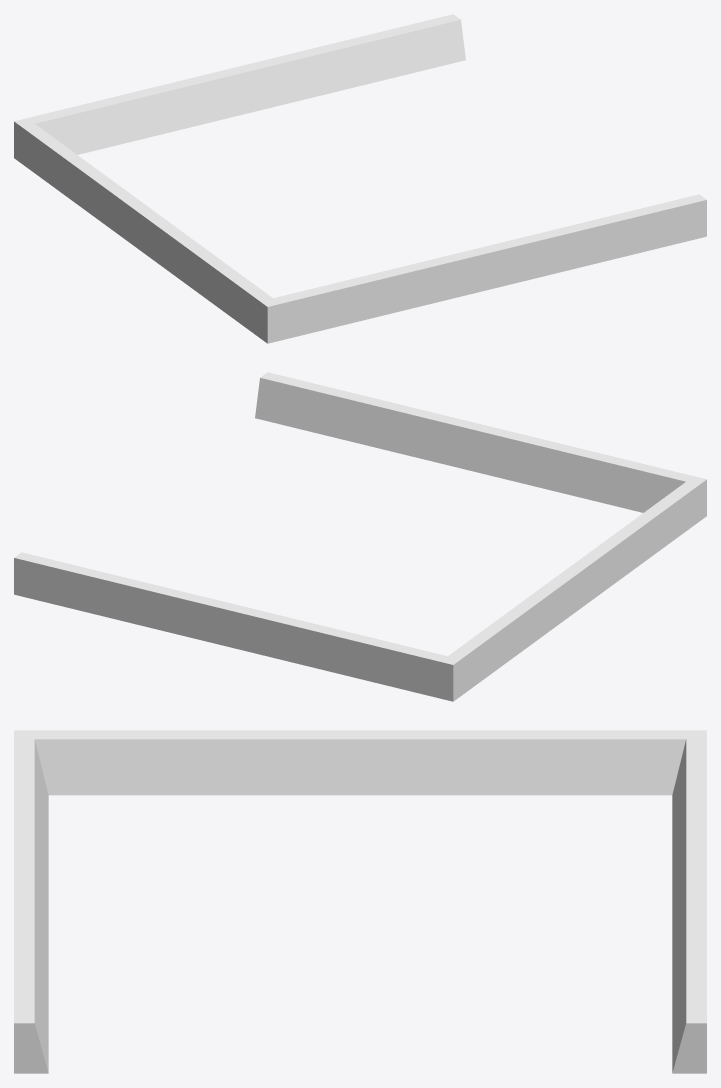
File: road-end-barrier.glb
3 views of the same model, one above another, from view 1: azimuth 30°, elevation 25°; view 2: azimuth 150°, elevation 25°; view 3: azimuth 270°, elevation 25° (orthographic). The views are drawn at different scales.
Visible parts, largest first — view 1: road-end-barrier; view 2: road-end-barrier; view 3: road-end-barrier.
Part boxes in pixels (x1=…): road-end-barrier: x1=14, y1=14, x2=706, y2=343; road-end-barrier: x1=14, y1=372, x2=706, y2=701; road-end-barrier: x1=14, y1=730, x2=706, y2=1073.
Size of the model in its own units: 1 by 0.08 by 1.
1 material, 1 textured.
